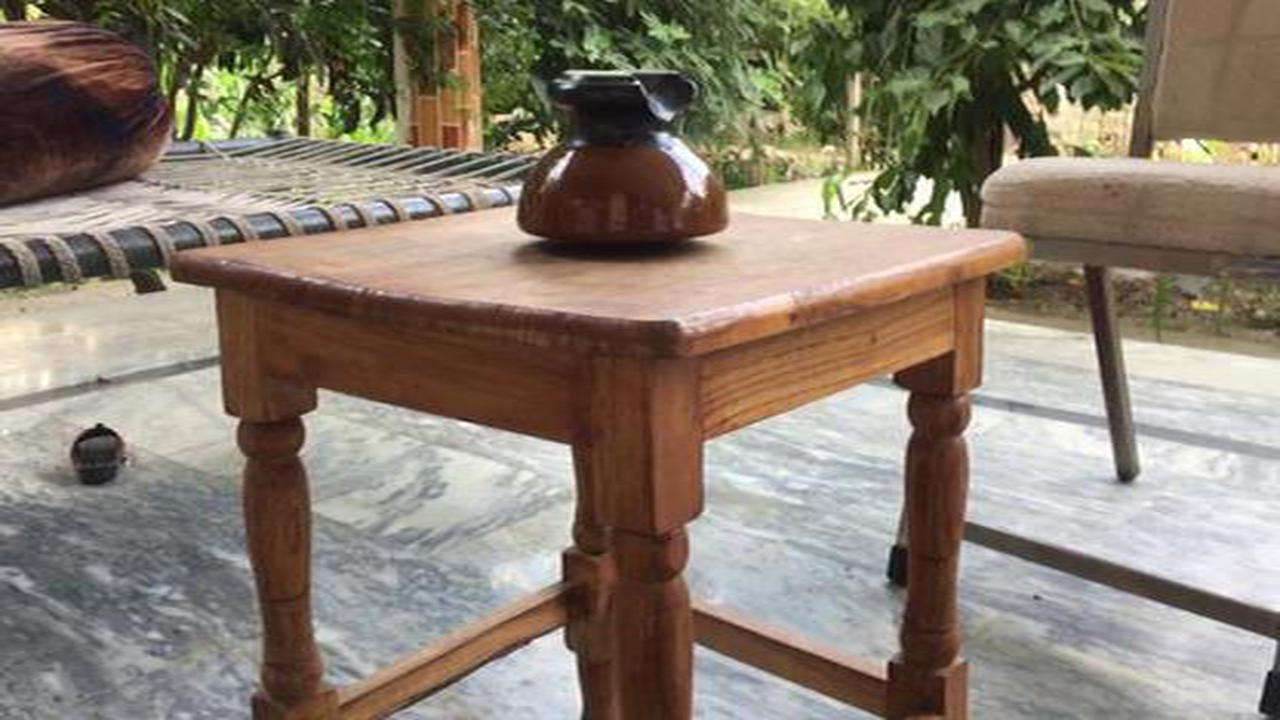insulator_pin: (496, 54, 745, 257)
